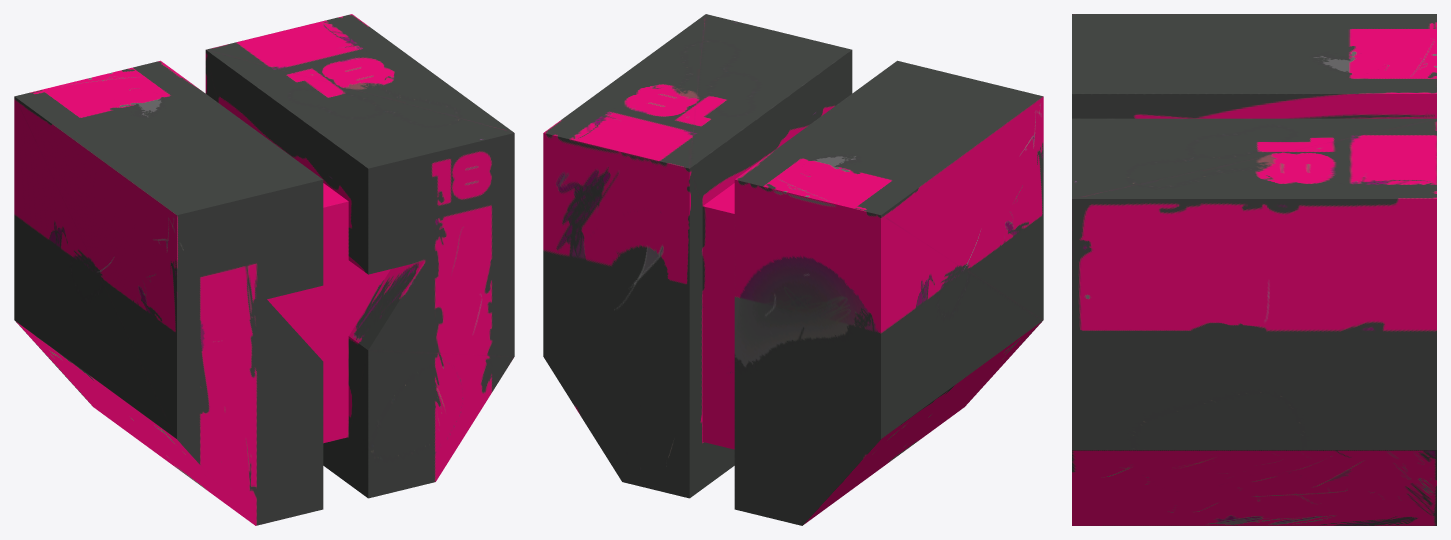
File: Fodder.fbx
The picture shows the model from 3 angles, left to right: view 1: azimuth 30°, elevation 25°; view 2: azimuth 150°, elevation 25°; view 3: azimuth 270°, elevation 25°; orthographic projection. The views are drawn at different scales.
Visible parts, largest first — view 1: node_id3; view 2: node_id3; view 3: node_id3.
Boxes of the visible parts, left/top/right/bottom form: node_id3: left=14, top=14, right=514, bottom=525; node_id3: left=543, top=14, right=1043, bottom=525; node_id3: left=1072, top=14, right=1436, bottom=525.
Bounding box in the file's own units: 0.512 × 0.4779 × 0.4267.
1 material, 1 textured.
